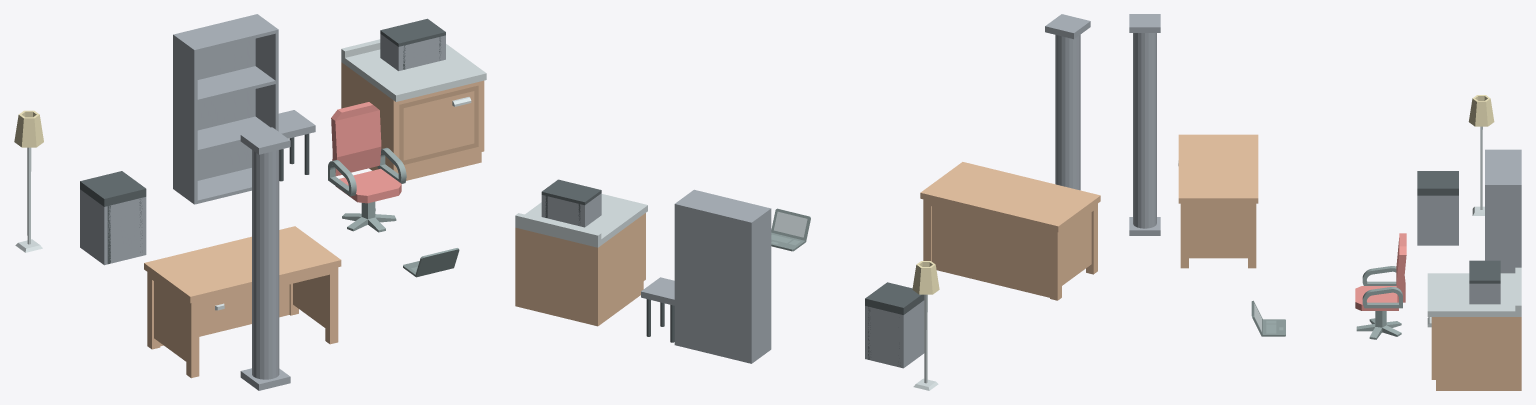
3 renders of one model, left to right at view 1: azimuth 30°, elevation 25°; view 2: azimuth 150°, elevation 25°; view 3: azimuth 270°, elevation 25°, orthographic. The views are drawn at different scales.
Parts seen in each view (by area): view 1: desk_blue__desk(Clone), cabinet_blue__kitchenCabinet(Clone), column_cyan__column_cyan shaft, deskchair_black__chair, shelf_orange__shelf_orange back, cabinet_blue__door, shelf_orange__shelf_orange side_l, bin_gray__bin_gray shell, shelf_orange__shelf_orange side_r, shelf_orange__shelf_orange board3, shelf_orange__shelf_orange board2, case_brown__case_brown shell (+11 smaller); view 2: desk_blue__desk(Clone), cabinet_blue__kitchenCabinet(Clone), shelf_orange__shelf_orange back, column_cyan__column_cyan shaft, shelf_orange__shelf_orange side_l, bin_gray__bin_gray shell, case_brown__case_brown shell, laptop_gray__laptop(Clone), shelf_orange__shelf_orange board3, lamp_white__lampRoundFloor(Clone), bin_gray__bin_gray lid, case_brown__case_brown lid (+3 smaller); view 3: desk_blue__desk(Clone), cabinet_blue__kitchenCabinet(Clone), column_cyan__column_cyan shaft, shelf_orange__shelf_orange side_r, bin_gray__bin_gray shell, deskchair_black__chair, shelf_orange__shelf_orange board3, lamp_white__lampRoundFloor(Clone), bin_gray__bin_gray lid, case_brown__case_brown lid, case_brown__case_brown shell, deskchair_black__chairDesk(Clone) (+3 smaller).
Boxes of the visible parts, <box> form: desk_blue__desk(Clone): <box>144,226,341,378</box>; cabinet_blue__kitchenCabinet(Clone): <box>341,39,486,180</box>; column_cyan__column_cyan shaft: <box>252,150,279,379</box>; deskchair_black__chair: <box>328,102,406,203</box>; shelf_orange__shelf_orange back: <box>176,15,255,180</box>; cabinet_blue__door: <box>399,85,478,164</box>; shelf_orange__shelf_orange side_l: <box>173,34,197,204</box>; bin_gray__bin_gray shell: <box>80,189,146,265</box>; shelf_orange__shelf_orange side_r: <box>254,14,278,131</box>; shelf_orange__shelf_orange board3: <box>178,15,275,52</box>; shelf_orange__shelf_orange board2: <box>197,66,275,102</box>; case_brown__case_brown shell: <box>380,34,445,70</box>; desk_blue__desk(Clone): <box>920,162,1100,300</box>; cabinet_blue__kitchenCabinet(Clone): <box>515,194,647,326</box>; shelf_orange__shelf_orange back: <box>677,204,749,362</box>; column_cyan__column_cyan shaft: <box>1055,34,1080,190</box>; shelf_orange__shelf_orange side_l: <box>748,208,771,363</box>; bin_gray__bin_gray shell: <box>865,300,924,368</box>; case_brown__case_brown shell: <box>541,193,601,227</box>; laptop_gray__laptop(Clone): <box>771,208,810,251</box>; shelf_orange__shelf_orange board3: <box>679,190,767,220</box>; lamp_white__lampRoundFloor(Clone): <box>912,261,939,390</box>; bin_gray__bin_gray lid: <box>865,282,924,314</box>; case_brown__case_brown lid: <box>541,179,601,205</box>; desk_blue__desk(Clone): <box>1178,134,1258,268</box>; cabinet_blue__kitchenCabinet(Clone): <box>1427,267,1521,390</box>; column_cyan__column_cyan shaft: <box>1133,33,1156,228</box>; shelf_orange__shelf_orange side_r: <box>1485,183,1521,273</box>; bin_gray__bin_gray shell: <box>1417,195,1458,245</box>; deskchair_black__chair: <box>1355,233,1406,310</box>; shelf_orange__shelf_orange board3: <box>1485,151,1519,183</box>; lamp_white__lampRoundFloor(Clone): <box>1468,95,1494,215</box>; bin_gray__bin_gray lid: <box>1417,171,1458,195</box>; case_brown__case_brown lid: <box>1469,260,1500,283</box>; case_brown__case_brown shell: <box>1469,283,1500,304</box>; deskchair_black__chairDesk(Clone): <box>1356,311,1401,339</box>.
Bounding box in the file's own units: 4.18 × 2.2 × 3.75.
